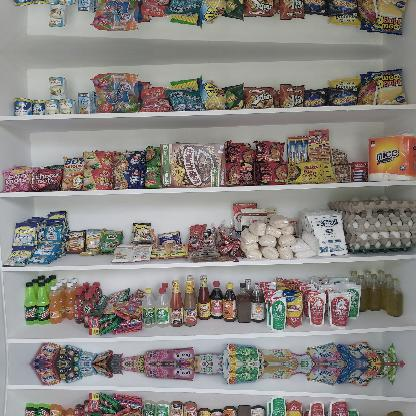Koko-Krunch: (160, 142, 226, 188)
